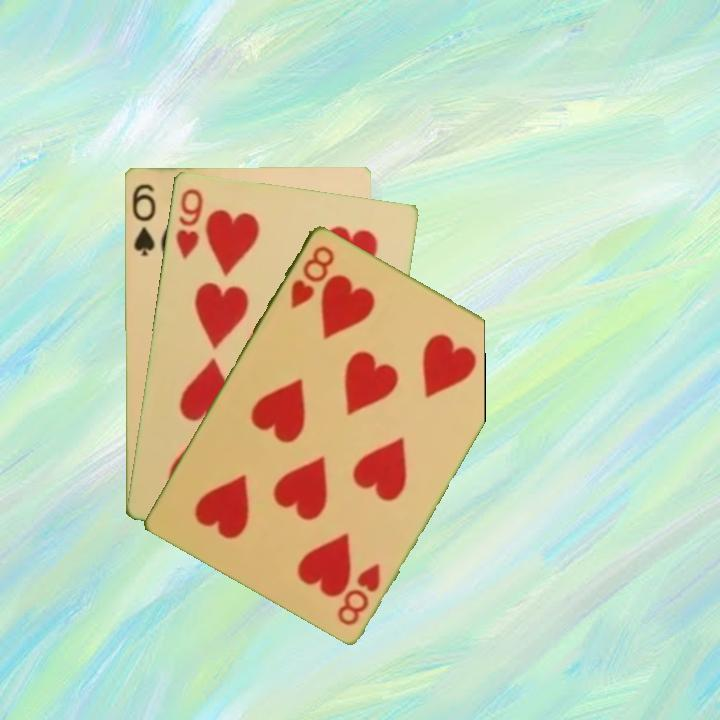6s: (128, 180, 158, 259)
8h: (286, 241, 337, 311), (333, 559, 383, 628)
9h: (172, 184, 206, 262)
